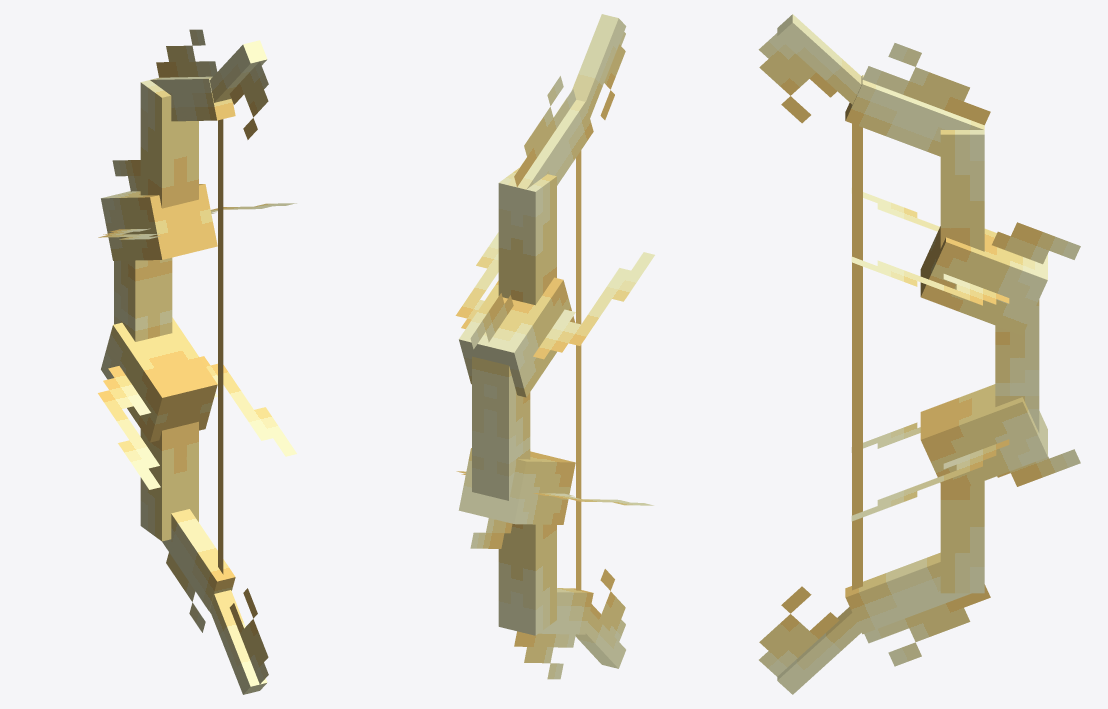
Rendered from archer_bow_spirit_dragon_1.gltf.
3 views of the same model, side by side, from view 1: azimuth 30°, elevation 25°; view 2: azimuth 150°, elevation 25°; view 3: azimuth 270°, elevation 25° (orthographic). The views are drawn at different scales.
Parts seen in each view (by area): view 1: cube (×17); view 2: cube (×18); view 3: cube (×20).
Boxes of the visible parts, left/top/right/bottom form: cube (×17): left=98, top=29, right=296, bottom=694; cube (×18): left=455, top=14, right=654, bottom=679; cube (×20): left=758, top=14, right=1080, bottom=694.
Bounding box in the file's own units: 1.22 × 3.15 × 1.54.
1 material, 1 textured.
